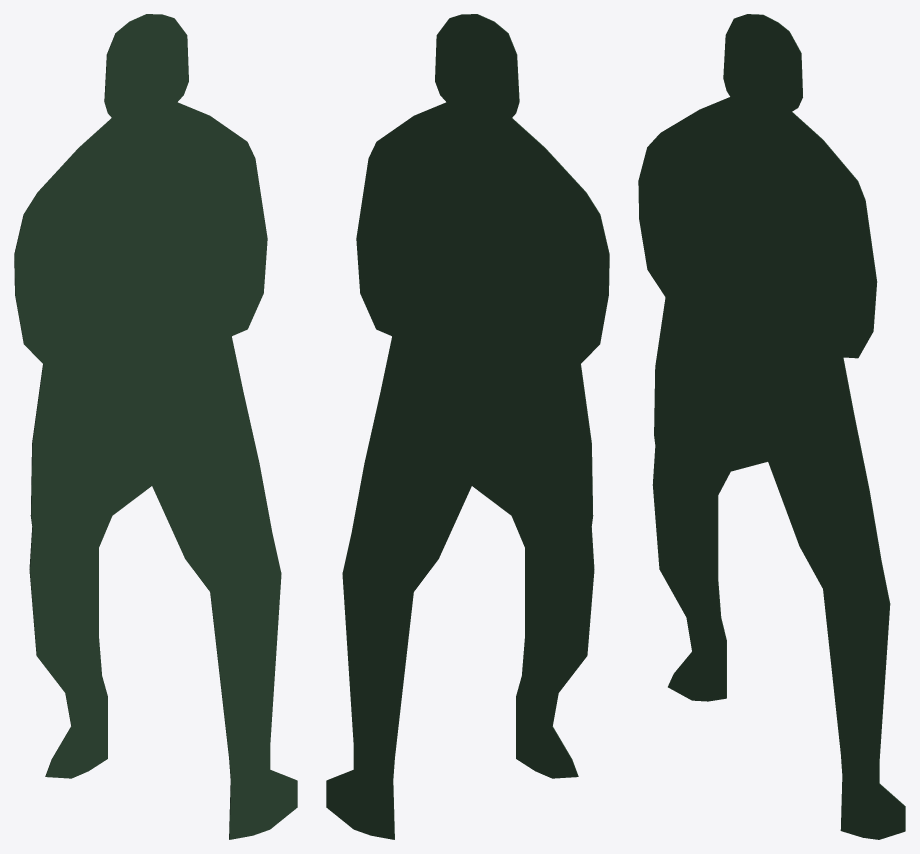
Rendered from elderman_sitting.fbx.
The picture shows the model from 3 angles, left to right: view 1: azimuth 30°, elevation 25°; view 2: azimuth 150°, elevation 25°; view 3: azimuth 330°, elevation 25°; orthographic projection. The views are drawn at different scales.
Parts seen in each view (by area): view 1: elderman_sitting; view 2: elderman_sitting; view 3: elderman_sitting.
Part boxes in pixels (x1,y1,x2,y2): elderman_sitting: [14, 14, 297, 839]; elderman_sitting: [326, 14, 609, 839]; elderman_sitting: [638, 14, 905, 839].
Size of the model in its own units: 16.47 by 47.12 by 0.0483.
